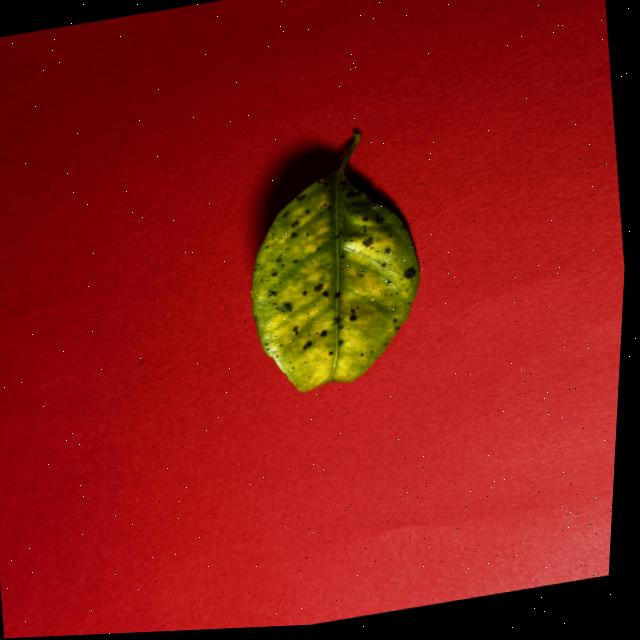sooty_mold: (251, 134, 420, 391)
